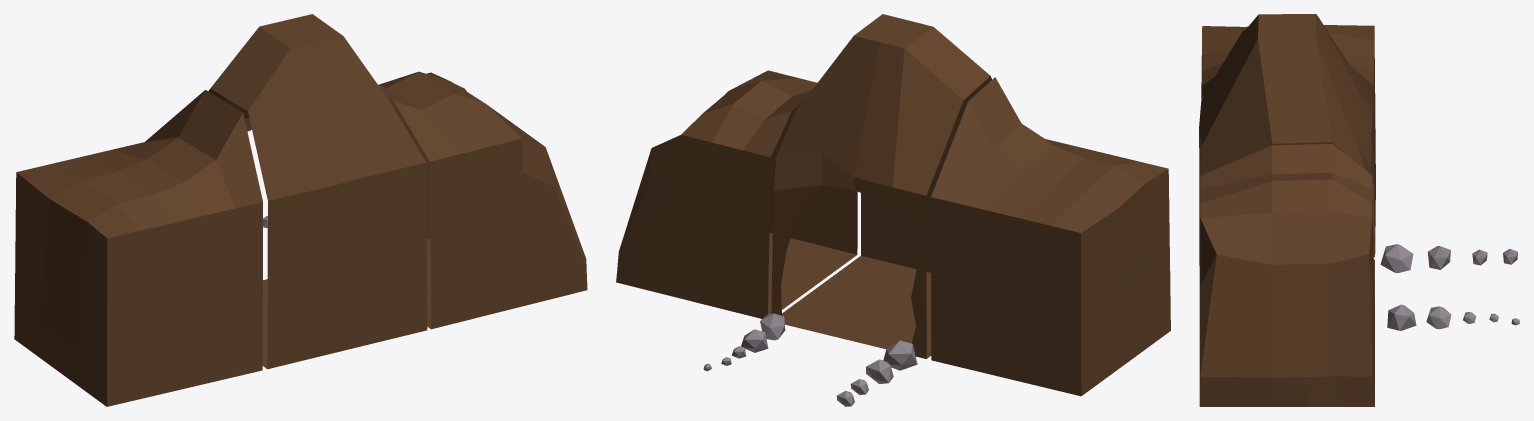
The model's file is HomeTile.fbx.
The picture shows the model from 3 angles, left to right: view 1: azimuth 30°, elevation 25°; view 2: azimuth 150°, elevation 25°; view 3: azimuth 270°, elevation 25°; orthographic projection. The views are drawn at different scales.
Parts seen in each view (by area): view 1: HomeTile; view 2: HomeTile; view 3: HomeTile.
Part boxes in pixels (x1,y1,x2,y2): HomeTile: (14,14,587,406); HomeTile: (616,14,1170,406); HomeTile: (1199,14,1519,406).
Bounding box in the file's own units: 301 × 174 × 183.
